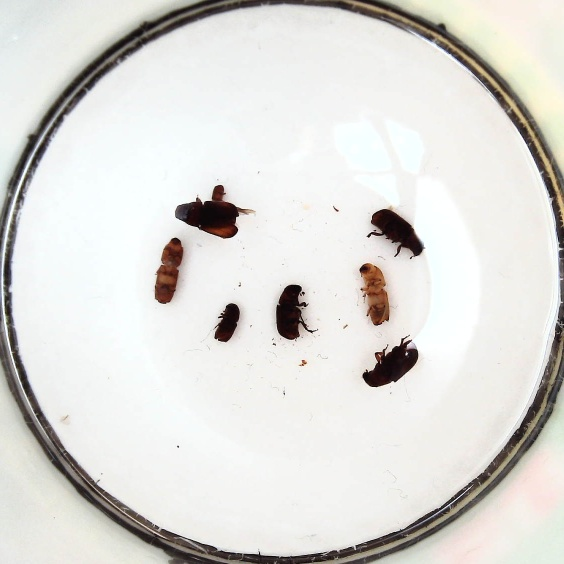boerner: (357, 260, 392, 327), (154, 238, 183, 305)
leconte: (360, 334, 418, 388), (367, 206, 423, 256), (174, 200, 239, 238), (274, 282, 314, 339)
linnaeus: (213, 301, 241, 345)
